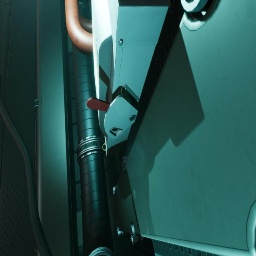SafetySwitchPanel ,: (86, 0, 171, 157)
